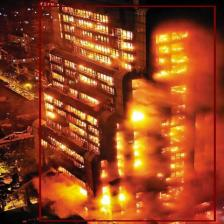fire: (39, 6, 215, 222)
